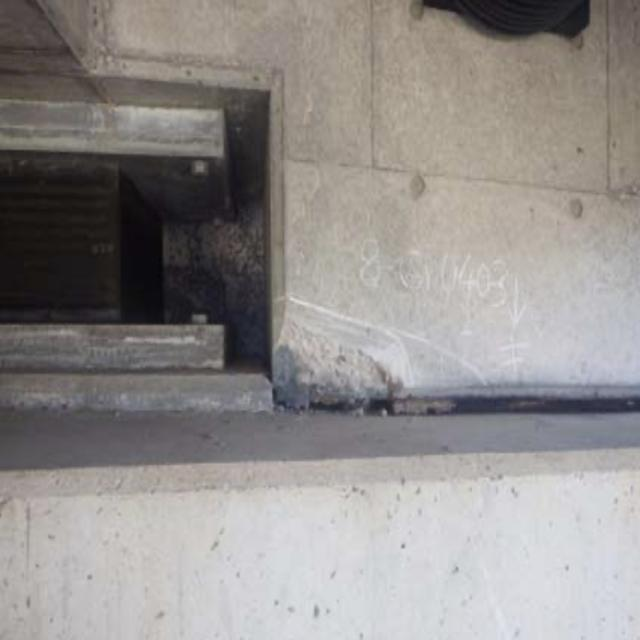spalling: (268, 319, 418, 430)
